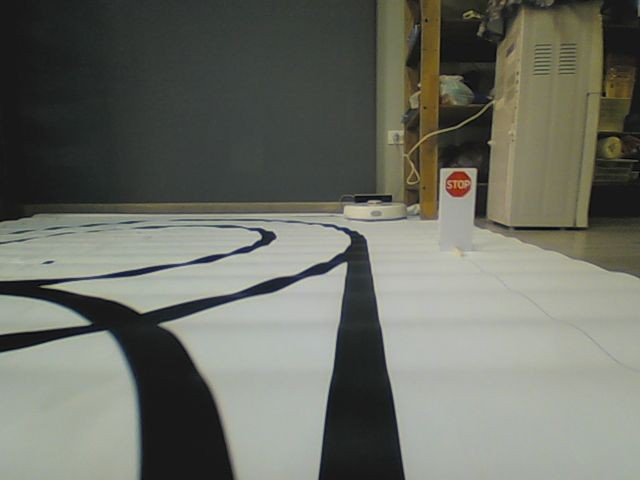Stop: (445, 170, 472, 198)
